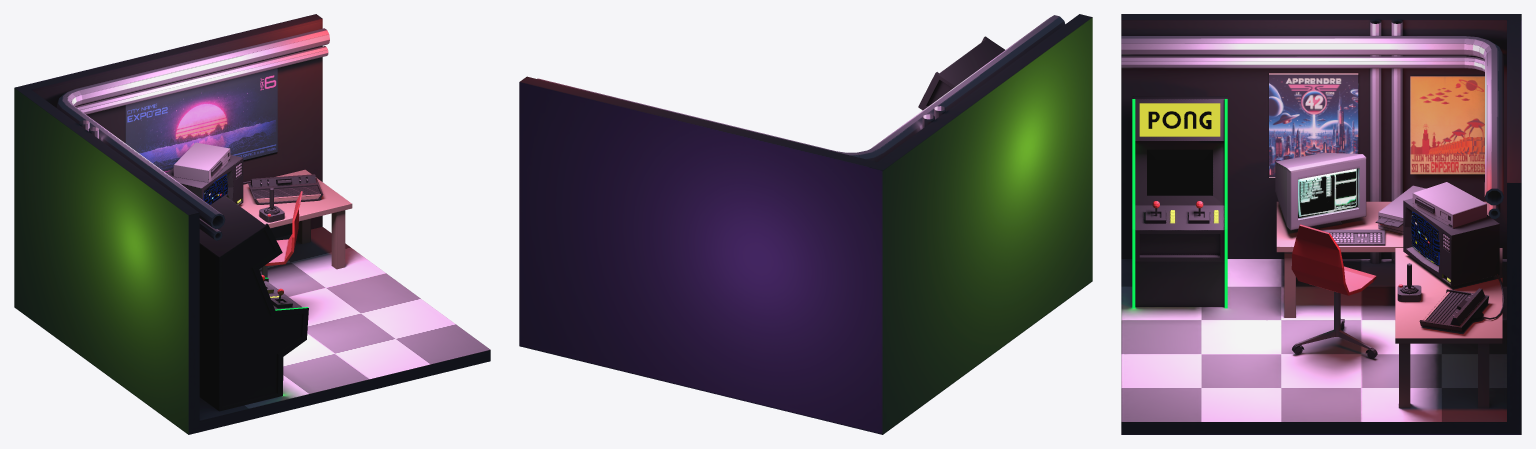
Rendered from arcade_room.gltf.
The picture shows the model from 3 angles, left to right: view 1: azimuth 30°, elevation 25°; view 2: azimuth 150°, elevation 25°; view 3: azimuth 270°, elevation 25°; orthographic projection. The views are drawn at different scales.
Parts seen in each view (by area): view 1: Room, Jatekgep, 80s-Retro-Sci-Fi-FPoster-and-lyer-Templates-for-Adobe-Photos, pipestop, Table, VHS, Labak, Plane.001, Plane.010, Plane, Plane.003, TV (+1 smaller); view 2: Room, pipestop, Jatekgep; view 3: Room, Jatekgep, pipestop, space-sluts-vintage-sci-fi-comic-book-cover-long-shot, robotlegion, Monitor, Table, Arcade game machine, Plane, TV, Table.002, Plane.010 (+11 smaller).
Part boxes in pixels (x1=…): Room: x1=14, y1=14, x2=490, y2=434; Jatekgep: x1=199, y1=194, x2=308, y2=411; 80s-Retro-Sci-Fi-FPoster-and-lyer-Templates-for-Adobe-Photos: x1=125, y1=68, x2=277, y2=172; pipestop: x1=56, y1=28, x2=329, y2=240; Table: x1=239, y1=169, x2=352, y2=228; VHS: x1=173, y1=142, x2=229, y2=182; Labak: x1=297, y1=210, x2=345, y2=269; Plane.001: x1=248, y1=174, x2=323, y2=204; Plane.010: x1=201, y1=164, x2=234, y2=204; Plane: x1=265, y1=191, x2=302, y2=265; Plane.003: x1=253, y1=186, x2=320, y2=199; TV: x1=166, y1=155, x2=242, y2=198; Room: x1=519, y1=14, x2=1092, y2=434; pipestop: x1=537, y1=15, x2=1065, y2=161; Jatekgep: x1=918, y1=36, x2=1004, y2=110; Room: x1=1121, y1=14, x2=1521, y2=434; Jatekgep: x1=1132, y1=96, x2=1227, y2=308; pipestop: x1=1121, y1=36, x2=1503, y2=218; space-sluts-vintage-sci-fi-comic-book-cover-long-shot: x1=1269, y1=73, x2=1358, y2=177; robotlegion: x1=1410, y1=76, x2=1484, y2=174; Monitor: x1=1275, y1=152, x2=1366, y2=230; Table: x1=1395, y1=248, x2=1502, y2=343; Arcade game machine: x1=1370, y1=19, x2=1402, y2=263; Plane: x1=1291, y1=224, x2=1376, y2=295; TV: x1=1403, y1=198, x2=1499, y2=288; Table.002: x1=1276, y1=201, x2=1488, y2=252; Plane.010: x1=1403, y1=201, x2=1441, y2=278.
Size of what is drawn, in the model's own units: 8.3 by 5.8 by 8.3.
Materials: 39 (37 with a texture image).
